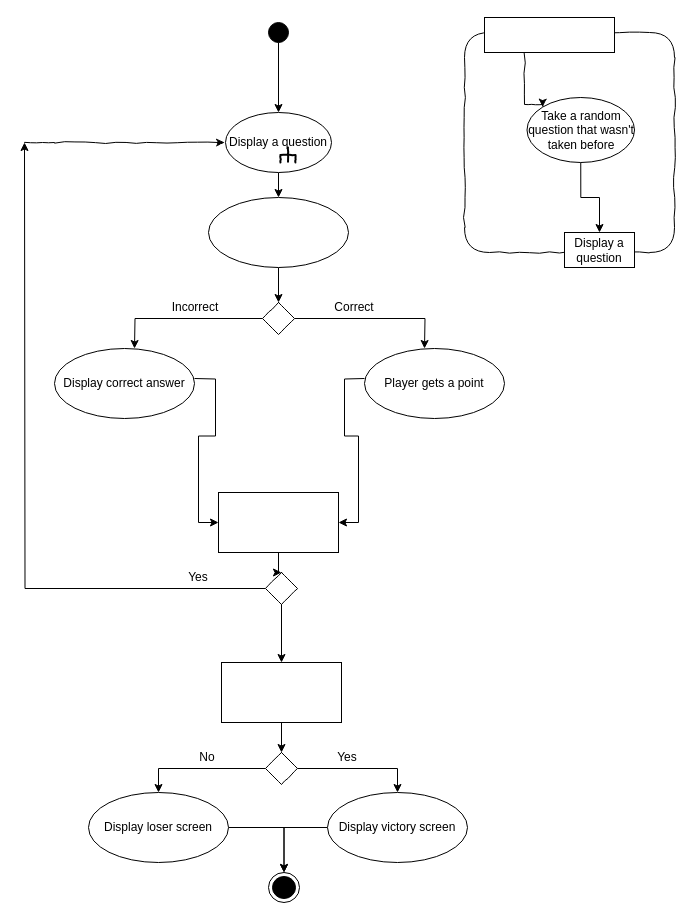
Some shapes in this 692 by 920 pixel diagram are drawn without their labels. The shapes that lost their labels are listed below. From the top down, each one's centre as x and y in pixels, then its label:
the point at 549,34: _a_b_c_d:string
the point at 278,232: check Answer
the point at 278,522: Are there more questions?
the point at 281,692: Does the Player have enough points to win?
